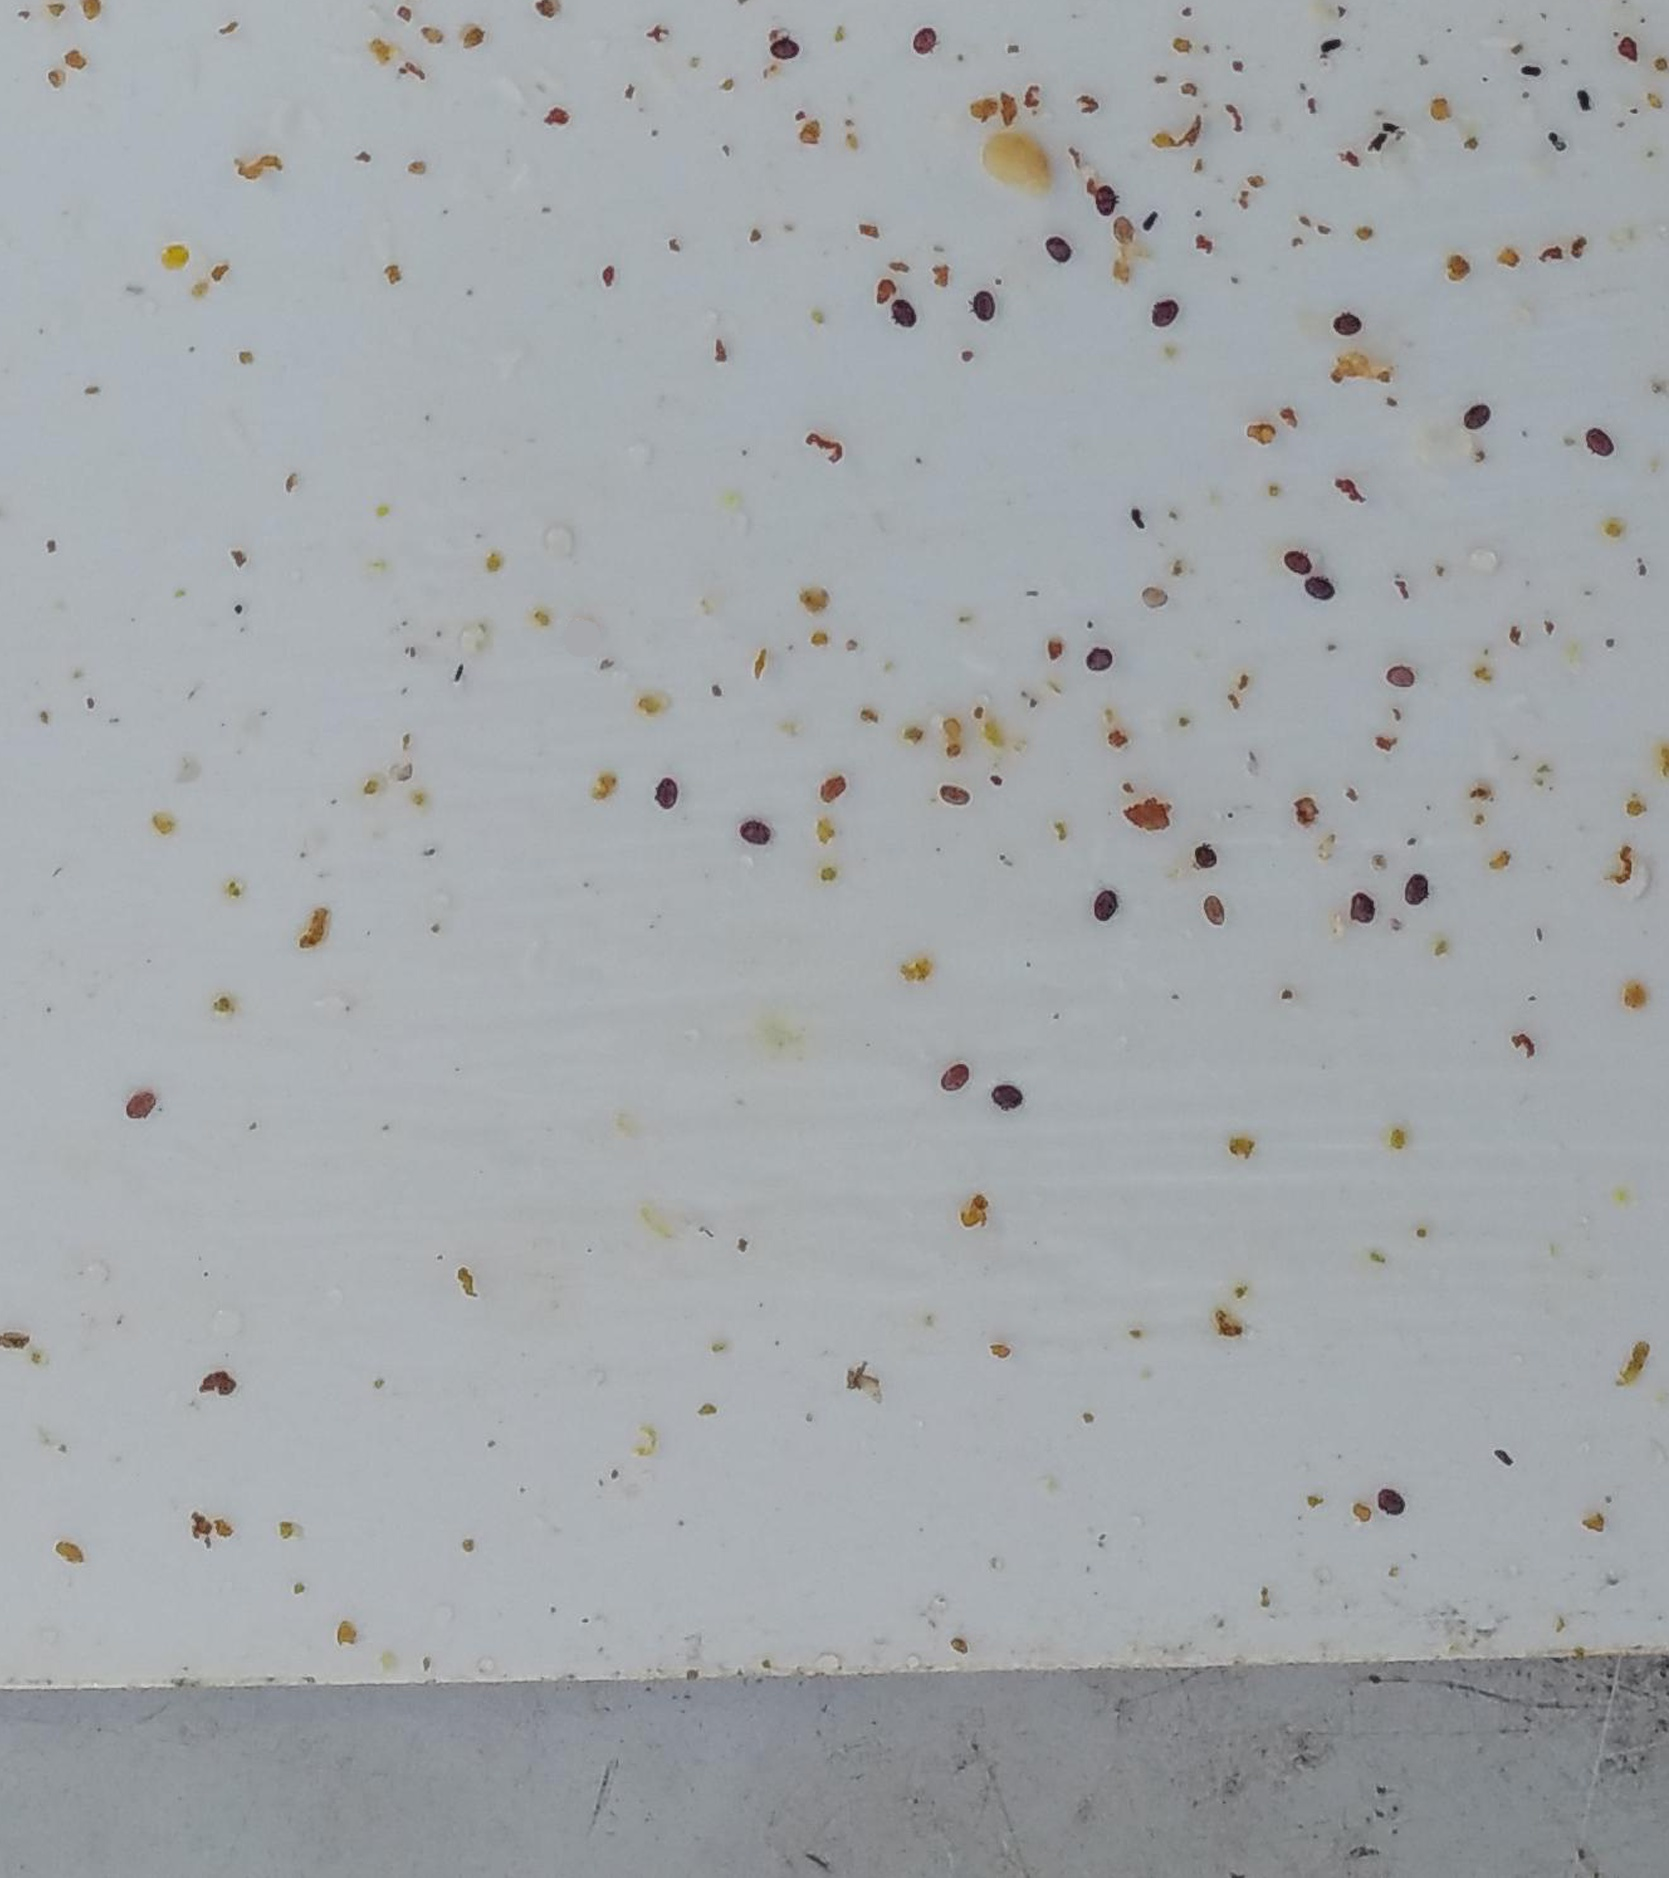Varroa: (1100, 209, 1142, 251), (1149, 292, 1186, 333), (938, 770, 975, 809), (1368, 1485, 1408, 1520), (942, 1058, 979, 1095), (1584, 420, 1621, 454), (1382, 662, 1418, 696), (124, 1086, 158, 1121), (1086, 891, 1120, 925), (909, 27, 941, 61), (1083, 639, 1115, 673), (652, 776, 685, 810), (1348, 892, 1381, 926), (968, 295, 1000, 329), (1279, 543, 1311, 577), (1094, 185, 1126, 217), (997, 1082, 1029, 1115), (1456, 401, 1489, 433), (1303, 577, 1336, 609), (738, 815, 768, 849), (1046, 229, 1078, 259), (1199, 891, 1229, 923), (773, 35, 802, 68), (1403, 875, 1432, 907), (1189, 842, 1220, 871), (888, 300, 917, 330), (1331, 309, 1360, 338)
